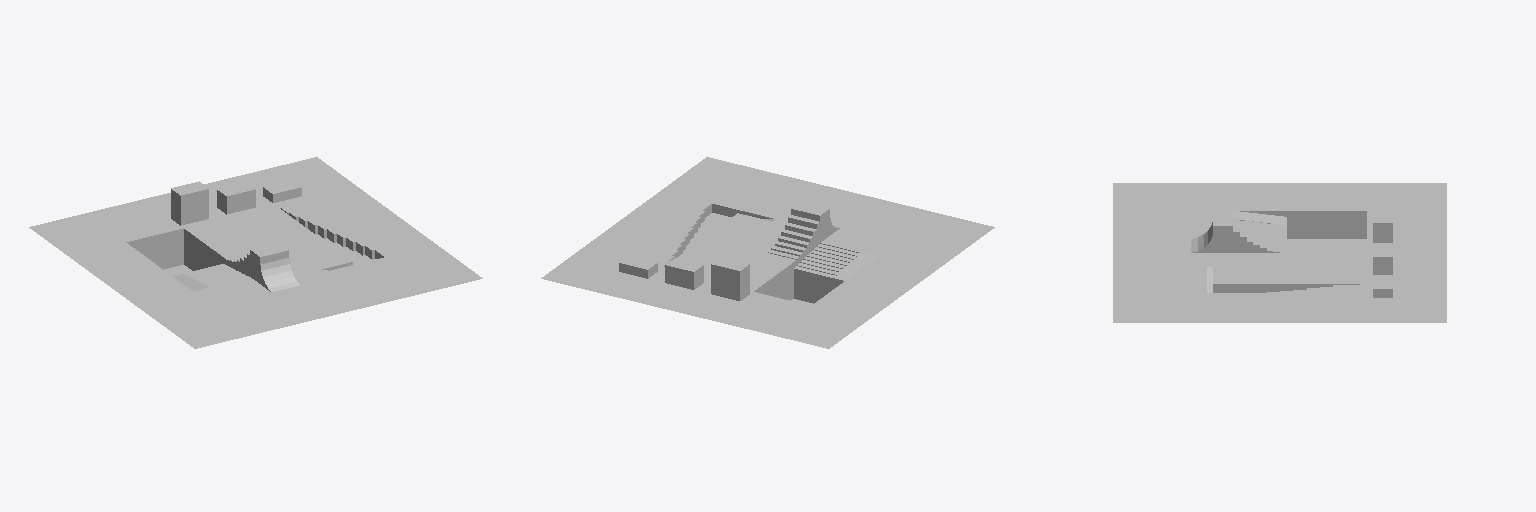
The model's file is world.obj.
The picture shows the model from 3 angles: view 1: azimuth 30°, elevation 25°; view 2: azimuth 150°, elevation 25°; view 3: azimuth 270°, elevation 25°; orthographic projection.
Visible parts, largest first — view 1: n4b4, n5b5, n6b6, n2b2, n3b3, n1b1; view 2: n4b4, n5b5, n6b6, n3b3, n2b2, n1b1, n0b0; view 3: n4b4, n5b5, n6b6, n2b2, n1b1.
Part boxes in pixels (x1,y1,x2,y2): n4b4: (47, 165, 464, 340); n5b5: (92, 184, 419, 321); n6b6: (29, 157, 482, 348); n2b2: (126, 228, 361, 270); n3b3: (181, 187, 301, 286); n1b1: (164, 187, 375, 275); n4b4: (559, 165, 976, 340); n5b5: (604, 184, 931, 321); n6b6: (541, 157, 994, 348); n3b3: (619, 243, 859, 300); n2b2: (683, 226, 843, 303); n1b1: (648, 209, 835, 305); n0b0: (752, 217, 848, 265); n4b4: (1127, 188, 1432, 317); n5b5: (1160, 202, 1399, 303); n6b6: (1113, 183, 1446, 322); n2b2: (1240, 211, 1366, 294); n1b1: (1207, 223, 1392, 297).
Bounding box in the file's own units: 10000 × 2200 × 10000.